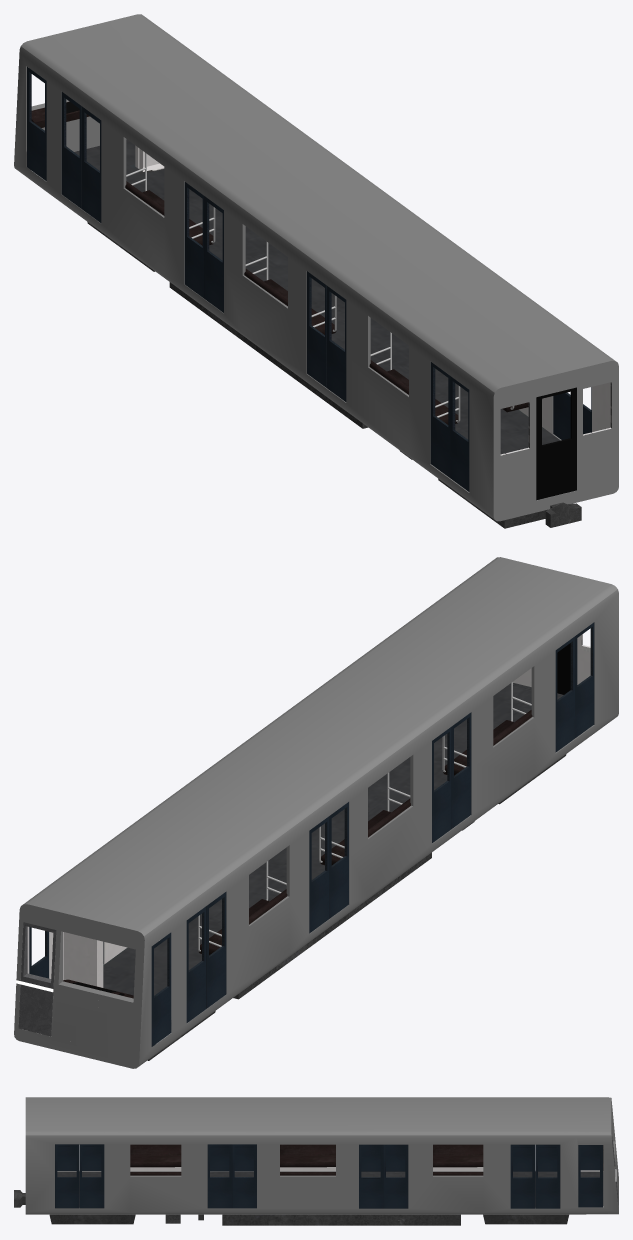
File: vagon_metro_bogota_opt.glb
3 views of the same model, one above another, from view 1: azimuth 30°, elevation 25°; view 2: azimuth 150°, elevation 25°; view 3: azimuth 270°, elevation 25° (orthographic). The views are drawn at different scales.
Parts seen in each view (by area): view 1: Object_1, Object_21, Object_93, Object_0, Object_80, Object_97, Object_16; view 2: Object_1, Object_21, Object_93, Object_85, Object_97, Object_80, Object_16; view 3: Object_1, Object_21, Object_80, Object_97, Object_93.
Boxes of the visible parts, x1,y1,x2,y2 form: Object_1: (14, 14, 618, 521); Object_21: (27, 67, 591, 491); Object_93: (26, 66, 611, 500); Object_0: (536, 387, 576, 500); Object_80: (87, 222, 581, 528); Object_97: (125, 181, 528, 424); Object_16: (126, 152, 514, 422); Object_1: (14, 557, 618, 1068); Object_21: (29, 622, 594, 1046); Object_93: (27, 634, 590, 1046); Object_85: (18, 922, 56, 1036); Object_97: (198, 710, 532, 955); Object_80: (147, 754, 566, 1060); Object_16: (198, 682, 531, 951); Object_1: (25, 1097, 618, 1214); Object_21: (55, 1144, 602, 1208); Object_80: (14, 1190, 568, 1225); Object_97: (130, 1144, 483, 1175); Object_93: (57, 1167, 603, 1207).
Bounding box in the file's own units: 16.03 × 19.83 × 108.
Materials: 12 (6 with a texture image).
